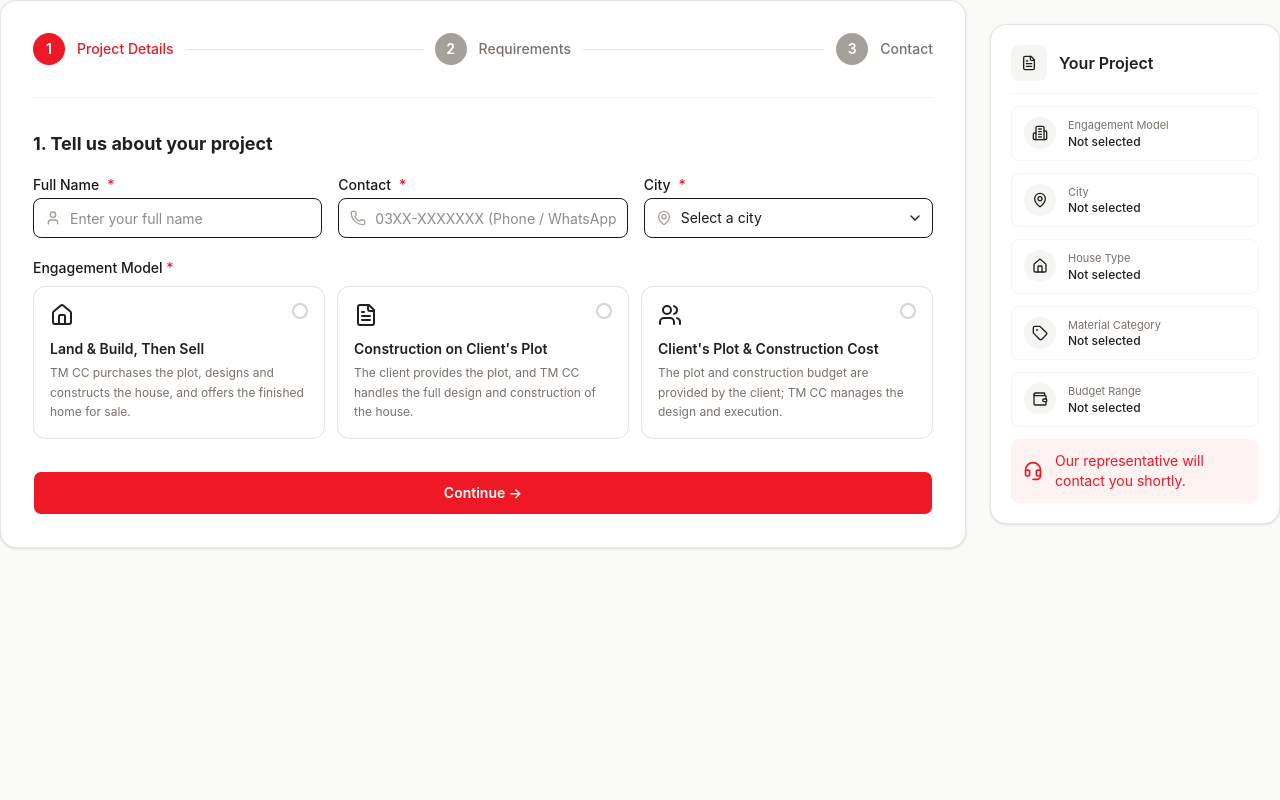
IntakeForm — wizard › keeps entered values when going back
Type "Ahmed Raza" into the field labelled "Full Name *". click: (178, 218)
box: [33,198,322,238]
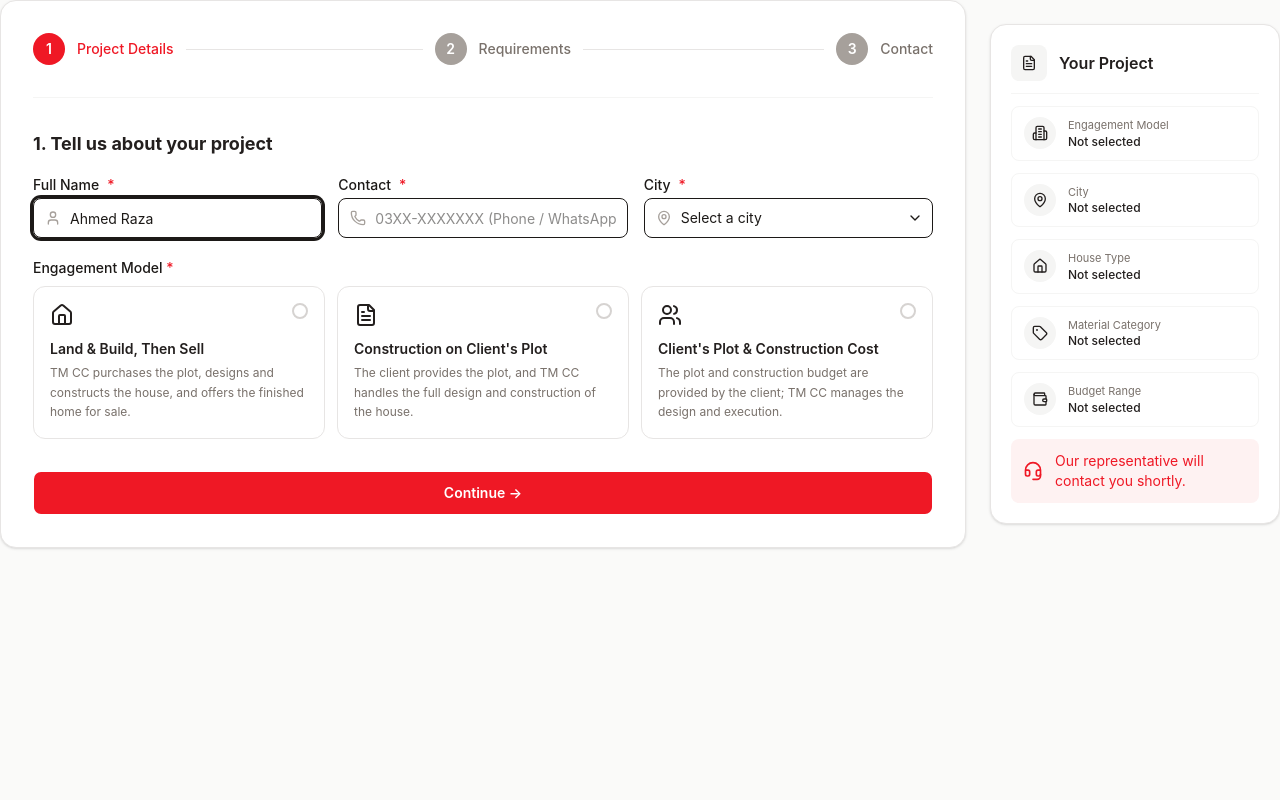
Type "+92-300-1234567" into the field labelled "Contact *". click: (483, 218)
box: [338,198,628,238]
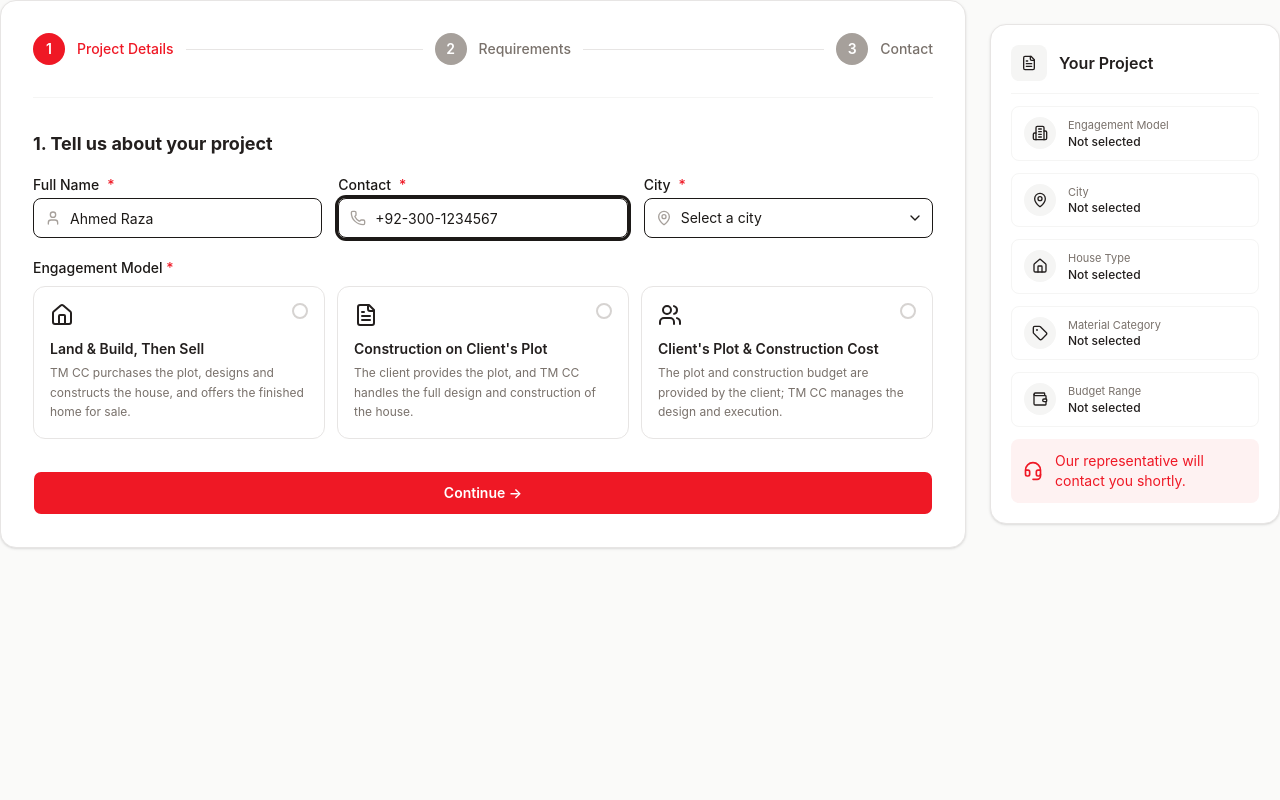
Select "Hyderabad" in the dropdown labelled "City *". click: (788, 218)
box: [644,198,933,238]
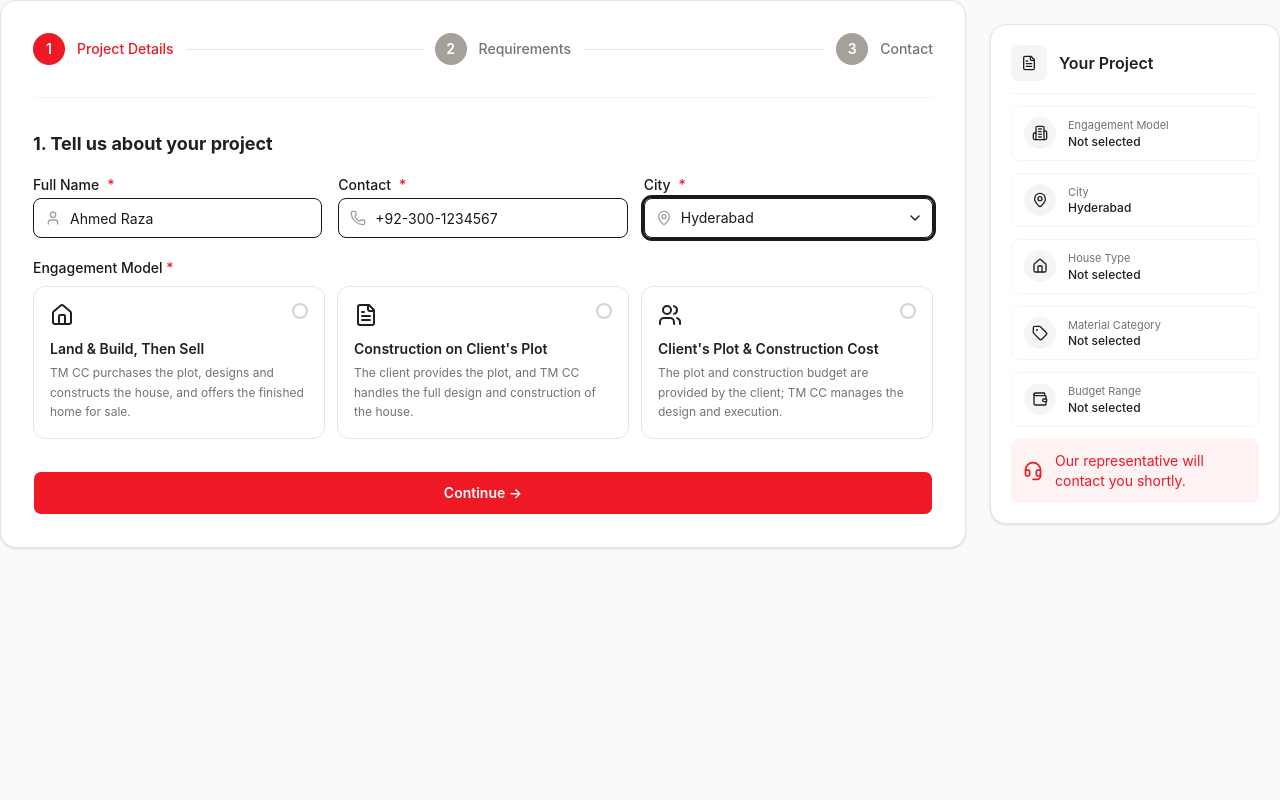
Click the radio button labelled "Construction on Client's Plot". click: (483, 362)
box: [337,286,629,438]
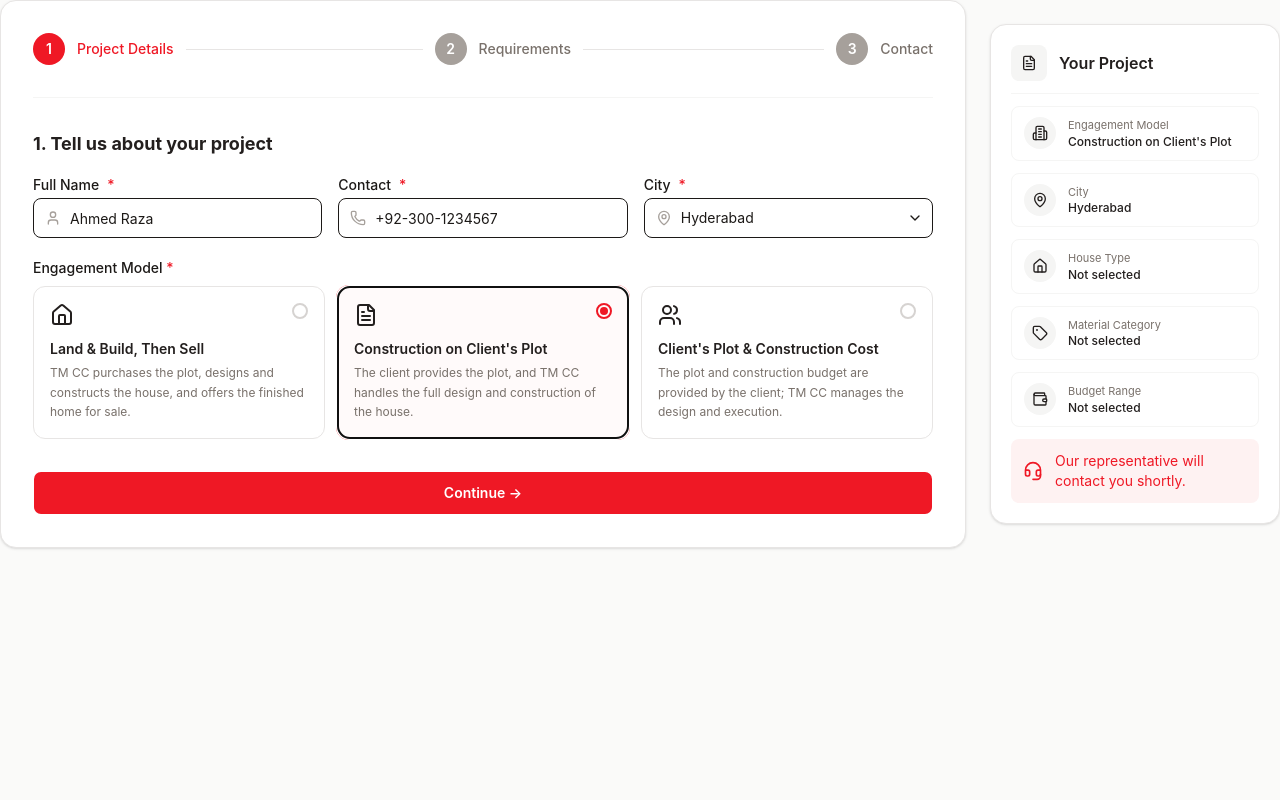
Click the button "Continue →". click: (483, 492)
box: [33,470,933,514]
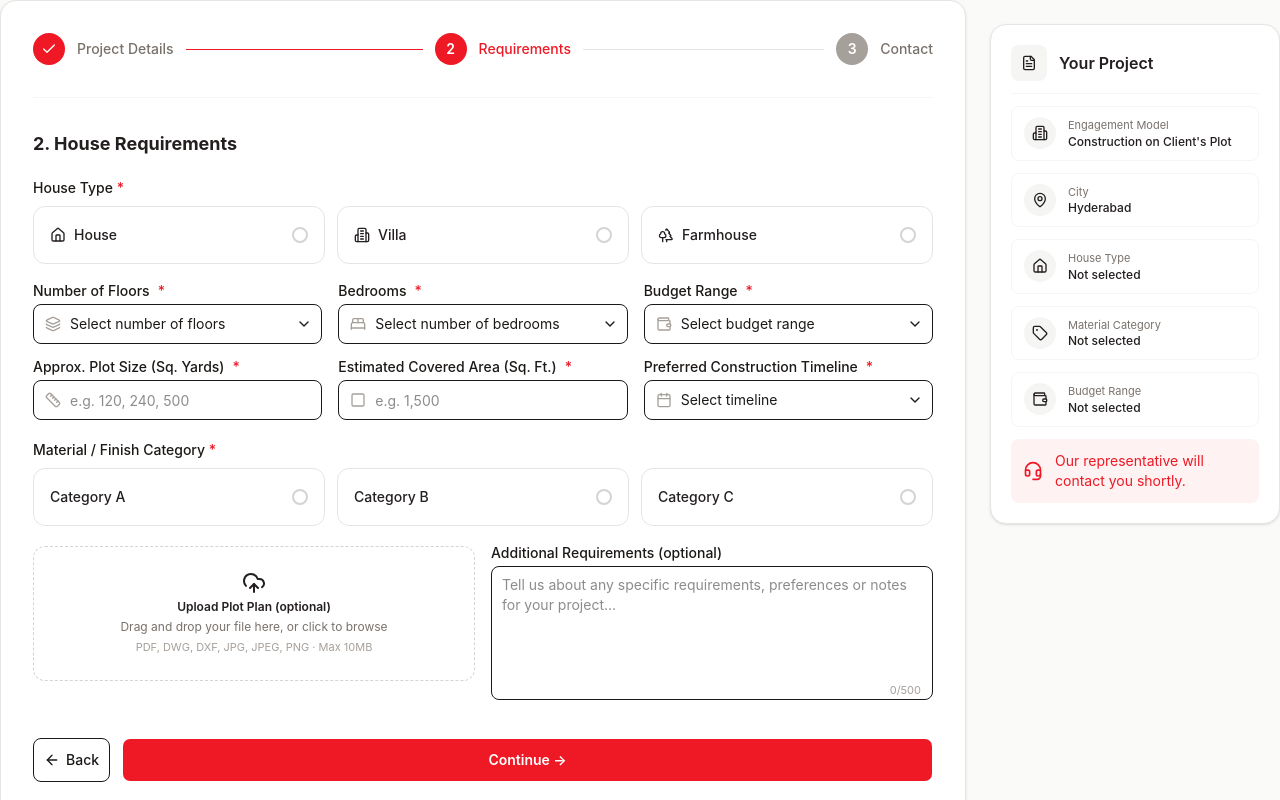
Click the button "Back". click: (72, 760)
box: [33,738,110,782]
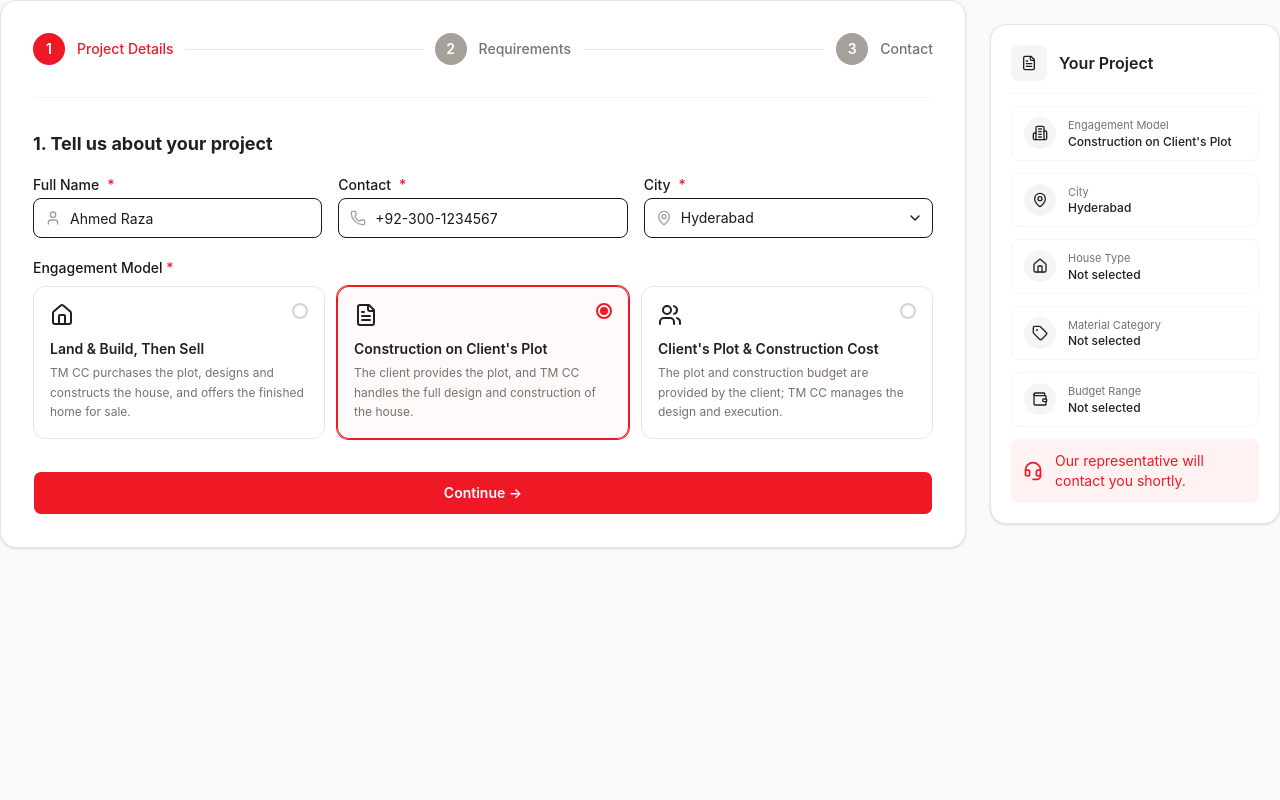
expect the field labelled "Full Name *" holds "Ahmed Raza": met, box [33,198,322,238]
expect the dropdown labelled "City *" shows "Hyderabad": met, box [644,198,933,238]
